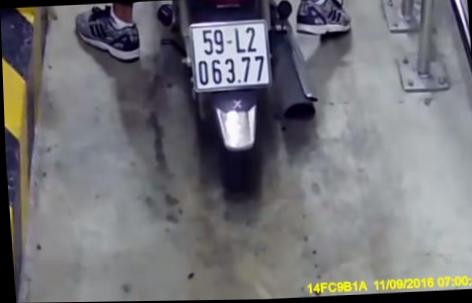LP: (186, 17, 274, 93)
